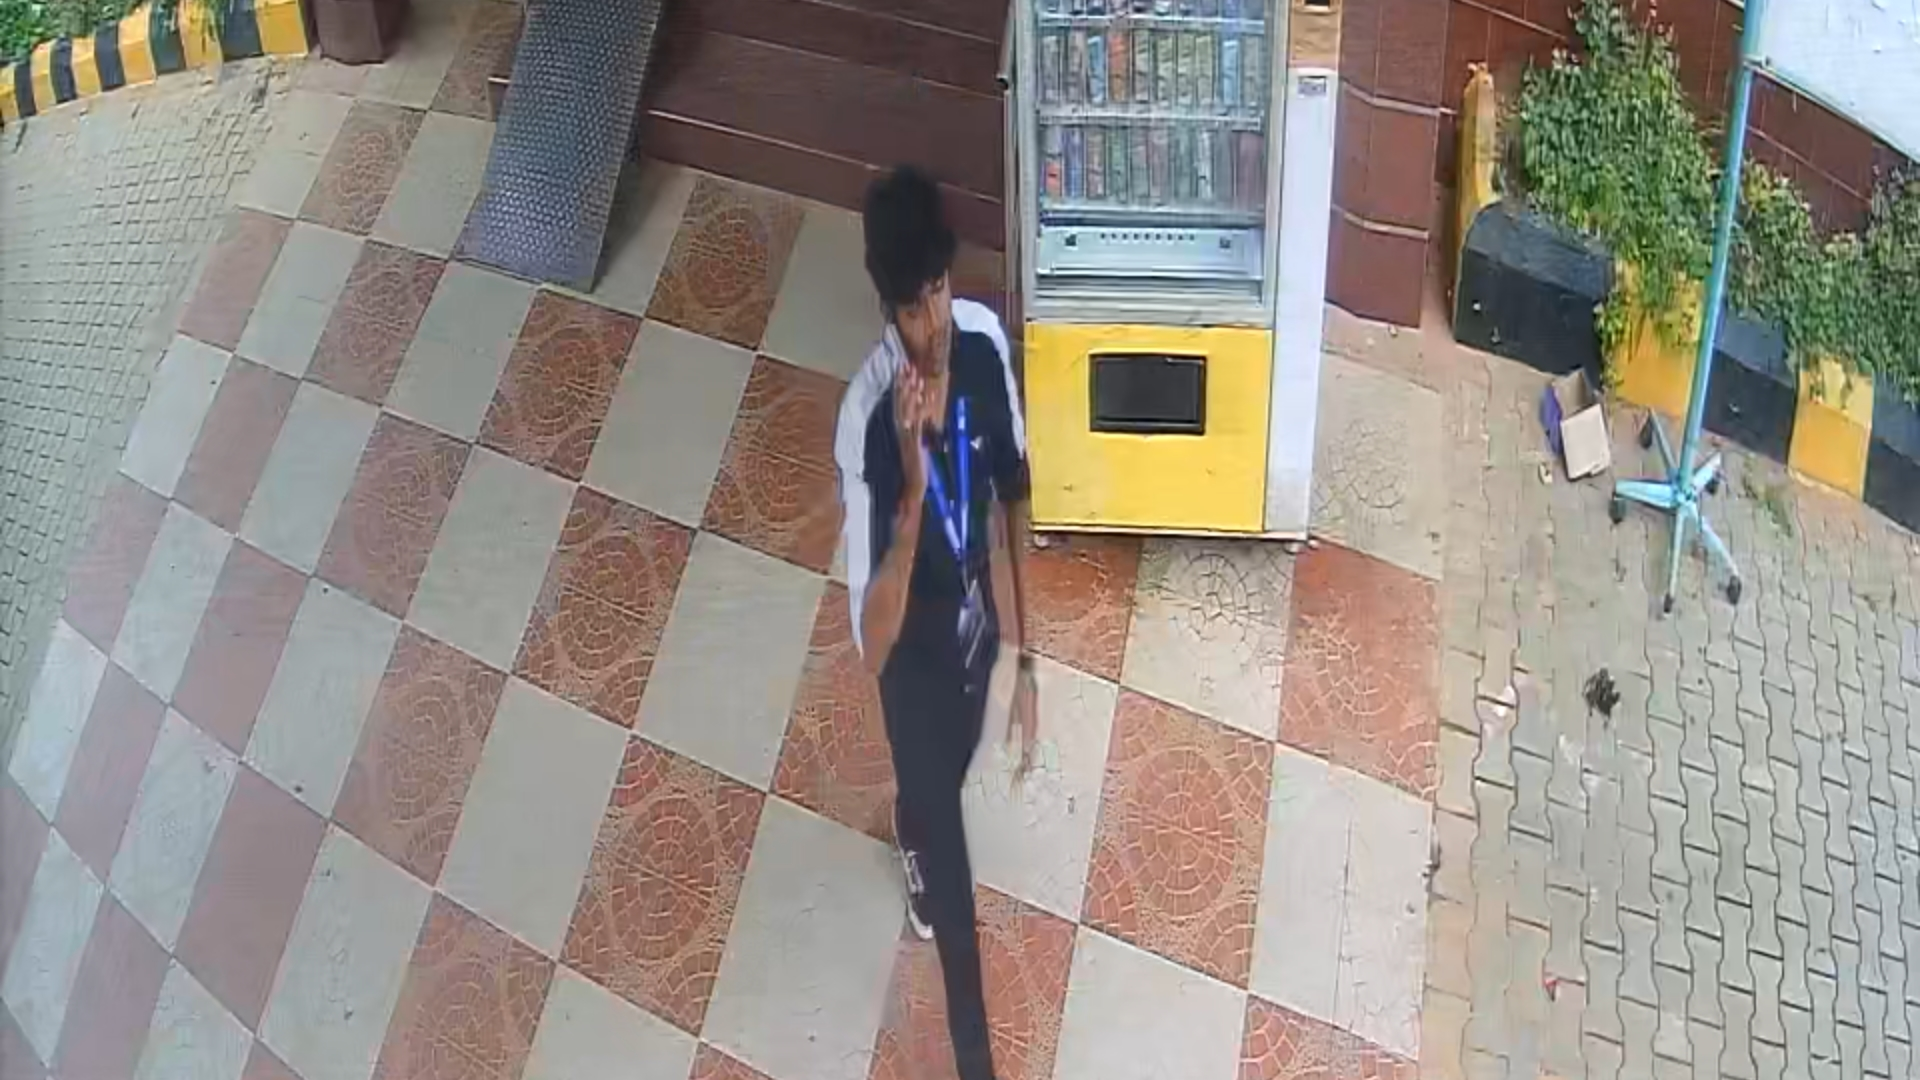not intruder: (815, 160, 1046, 1080)
